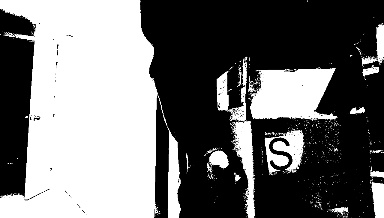S: (266, 136, 298, 171)
